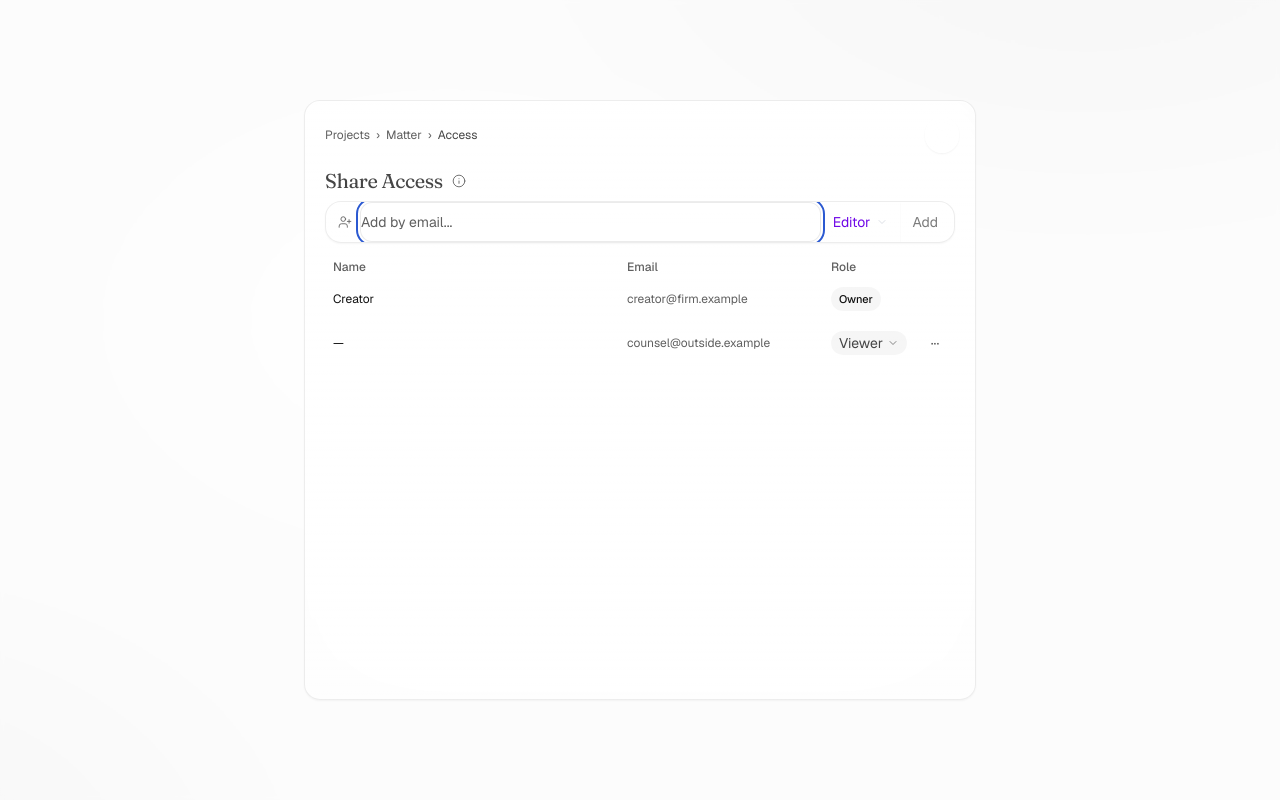
Test: AccessModal — per-recipient roles › offers Owner, Editor and Viewer for each direct recipient
Click the button with aria-label "Role for counsel@outside.example". click: (869, 343)
box: [831,331,907,355]
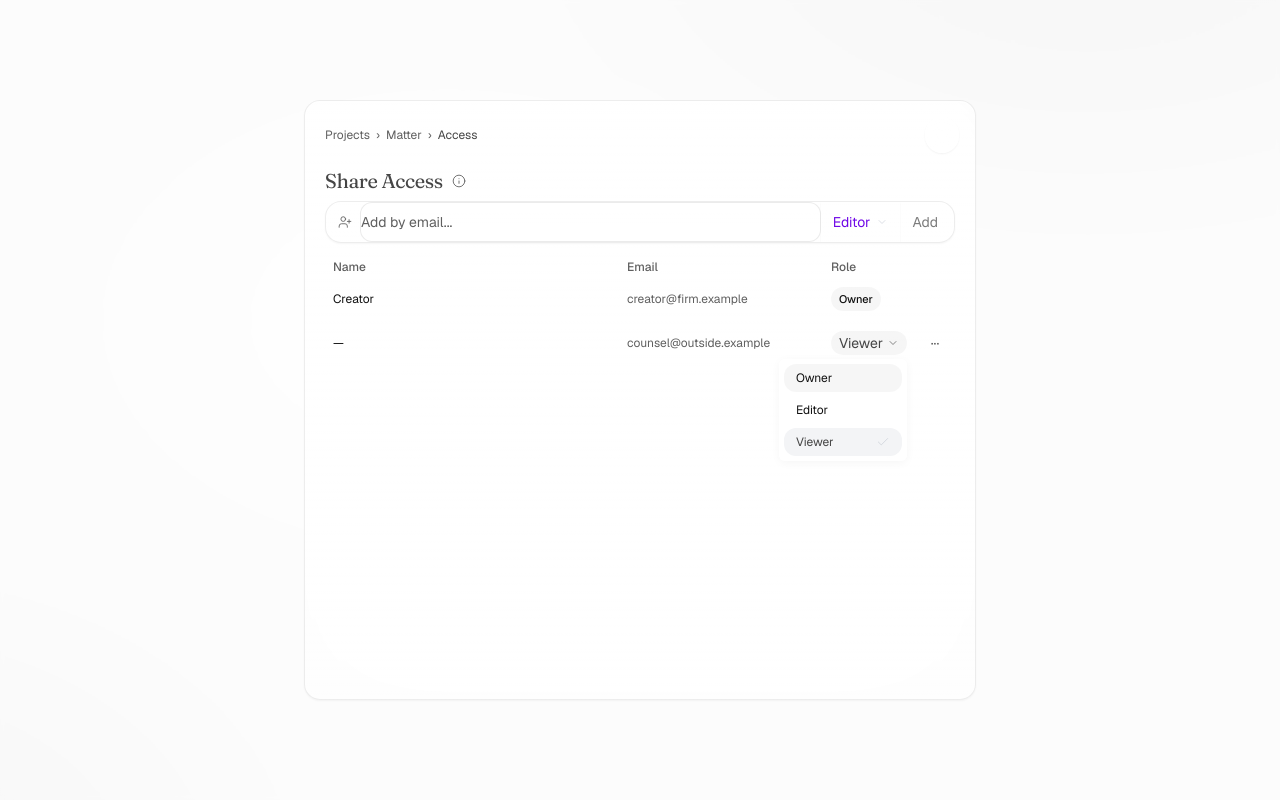
Now the menu items read "Owner", "Editor", "Viewer", in this order, box [784,364,902,392]; [796,402,828,418]; [784,428,902,456]
